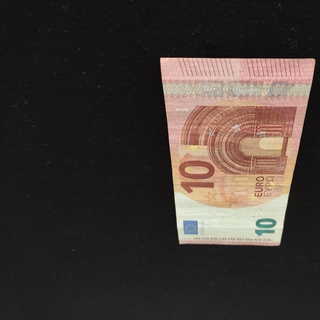10EUROFront: (159, 56, 315, 247)
